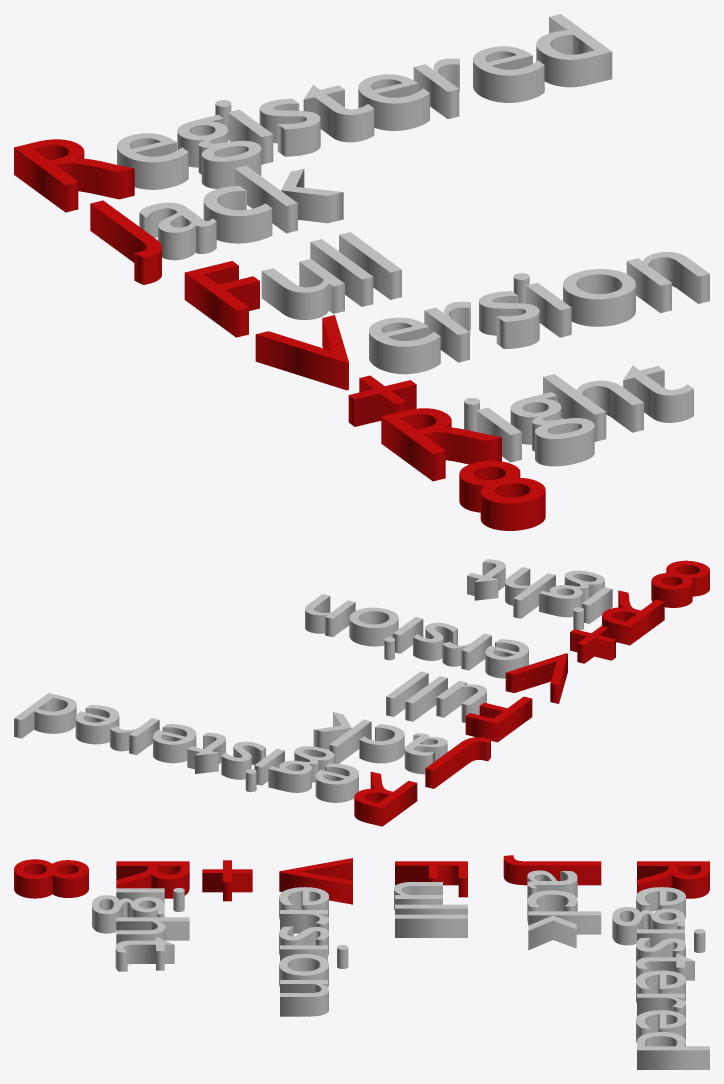
The model's file is RJFV.fbx.
3 views of the same model, one above another, from view 1: azimuth 30°, elevation 25°; view 2: azimuth 150°, elevation 25°; view 3: azimuth 270°, elevation 25° (orthographic). The views are drawn at different scales.
Visible parts, largest first — view 1: Text, Text.003, Text.005, Text.001, Text.002, Text.006, Text.004; view 2: Text, Text.003, Text.005, Text.001, Text.002, Text.006, Text.004; view 3: Text, Text.003, Text.005, Text.001, Text.002, Text.006, Text.004.
Boxes of the visible parts, x1=… form: Text: x1=14, y1=14, x2=612, y2=212; Text.003: x1=255, y1=252, x2=709, y2=390; Text.005: x1=381, y1=365, x2=693, y2=481; Text.001: x1=90, y1=165, x2=343, y2=284; Text.002: x1=184, y1=232, x2=401, y2=337; Text.006: x1=459, y1=460, x2=545, y2=530; Text.004: x1=348, y1=375, x2=416, y2=426; Text: x1=14, y1=693, x2=417, y2=826; Text.003: x1=305, y1=594, x2=567, y2=703; Text.005: x1=467, y1=559, x2=664, y2=645; Text.001: x1=313, y1=712, x2=490, y2=788; Text.002: x1=386, y1=671, x2=532, y2=742; Text.006: x1=651, y1=560, x2=709, y2=607; Text.004: x1=570, y1=626, x2=615, y2=663; Text: x1=612, y1=861, x2=709, y2=1069; Text.003: x1=279, y1=858, x2=352, y2=1016; Text.005: x1=92, y1=861, x2=189, y2=971; Text.001: x1=503, y1=855, x2=601, y2=950; Text.002: x1=394, y1=861, x2=467, y2=937; Text.006: x1=14, y1=859, x2=88, y2=898; Text.004: x1=202, y1=860, x2=252, y2=901.
Bounding box in the file's own units: 431 × 20 × 650.
